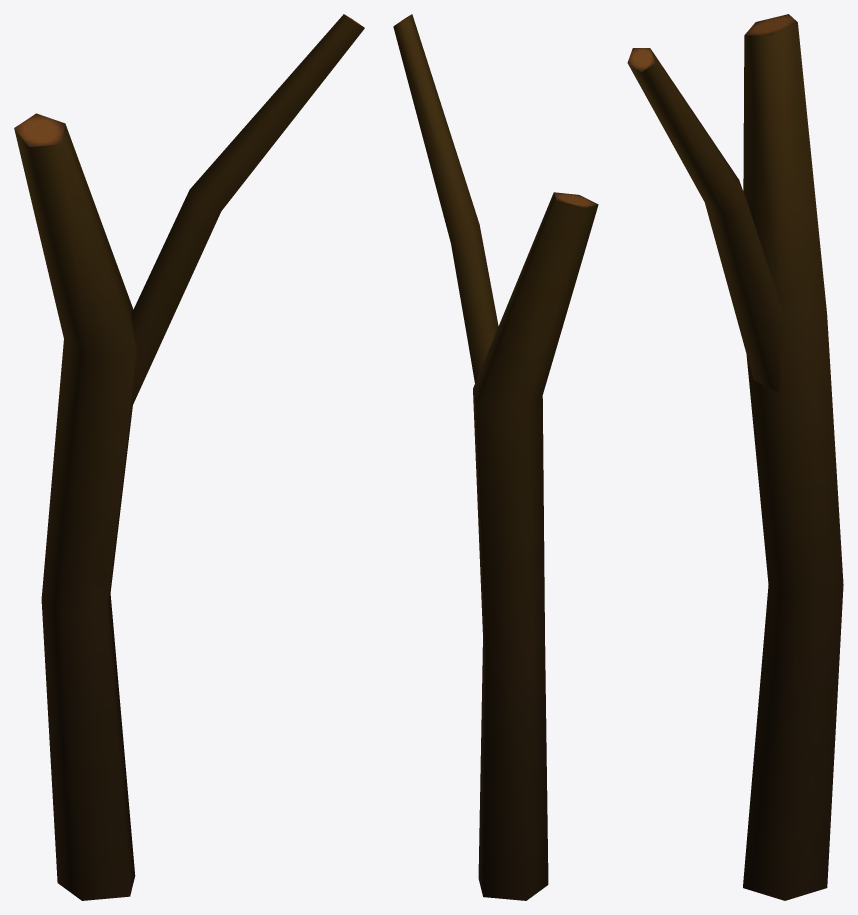
Rendered from Stick_D.fbx.
The picture shows the model from 3 angles, left to right: view 1: azimuth 30°, elevation 25°; view 2: azimuth 150°, elevation 25°; view 3: azimuth 270°, elevation 25°; orthographic projection. The views are drawn at different scales.
Visible parts, largest first — view 1: Stick_D; view 2: Stick_D; view 3: Stick_D.
Part boxes in pixels (left/top/right/bottom): Stick_D: left=14, top=14, right=364, bottom=900; Stick_D: left=393, top=14, right=598, bottom=900; Stick_D: left=627, top=14, right=843, bottom=900.
Size of the model in its own units: 15.87 by 9.92 by 47.03.
1 material, 1 textured.
